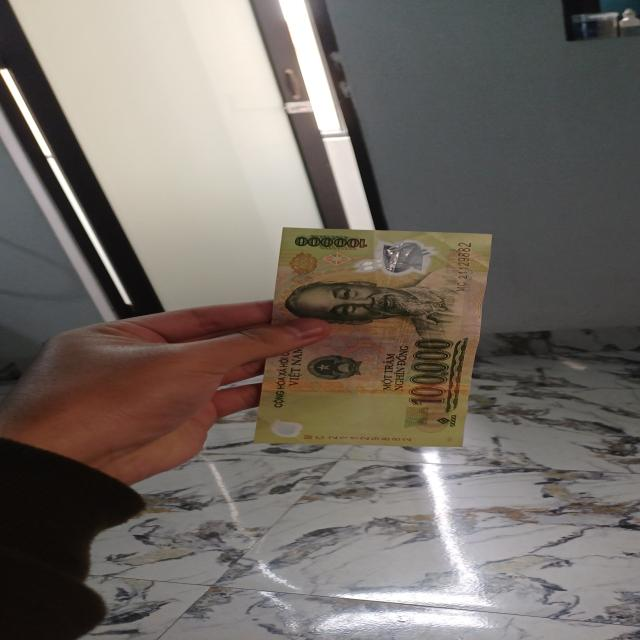100 000 VND: (227, 213, 510, 455)
